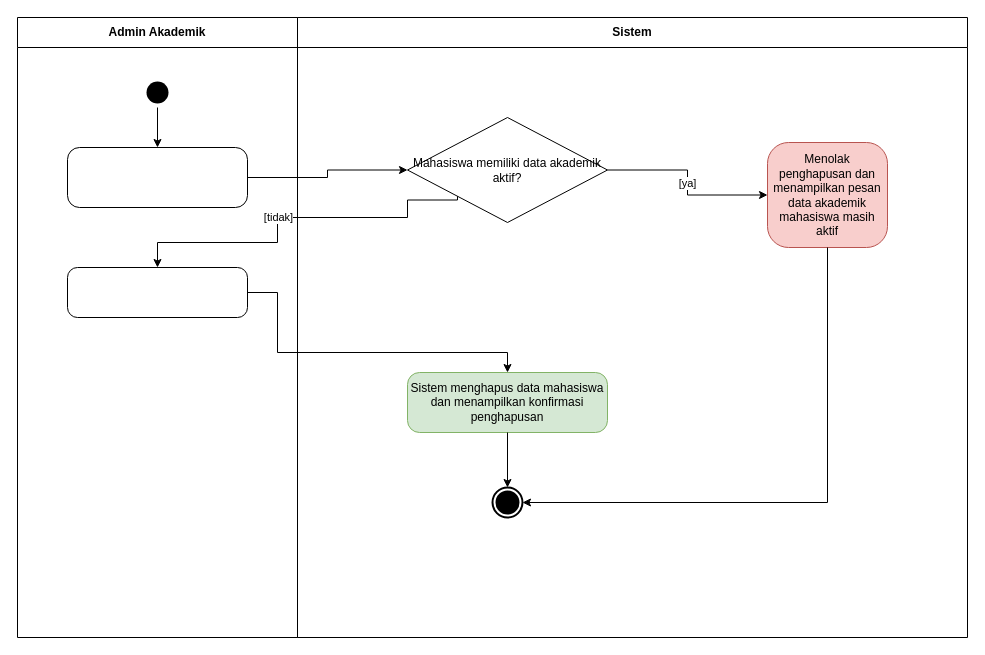
Image size: 985x655. Some labels were removed from this diagram. Each missing label, with the centre of its shape:
"Memilih data mahasiswa yang akan dihapus" goes at [157,177].
"Mengonfirmasi penghapusan" goes at [157,292].
